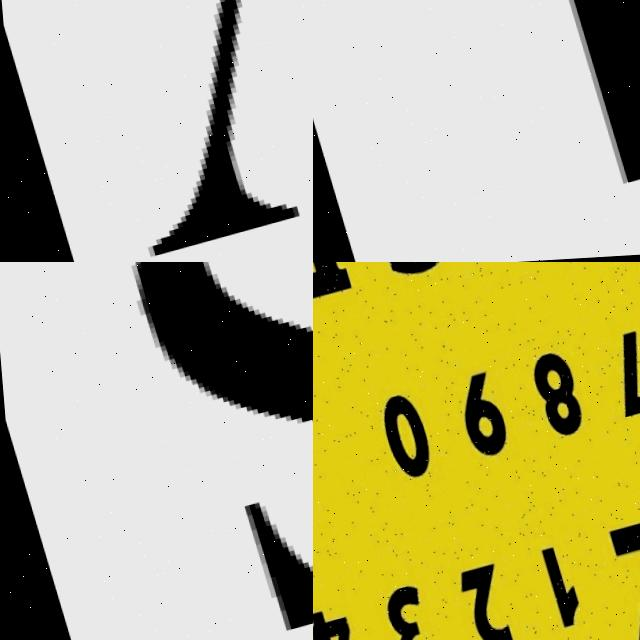0: (360, 375, 435, 492)
1: (525, 543, 583, 640)
2: (441, 556, 516, 640)
3: (365, 582, 434, 640)
4: (313, 598, 360, 640)
7: (591, 319, 640, 433)
8: (514, 339, 590, 453)
9: (440, 358, 511, 471)
L: (479, 0, 640, 202)
S: (84, 262, 313, 640)
V: (8, 0, 313, 262)
